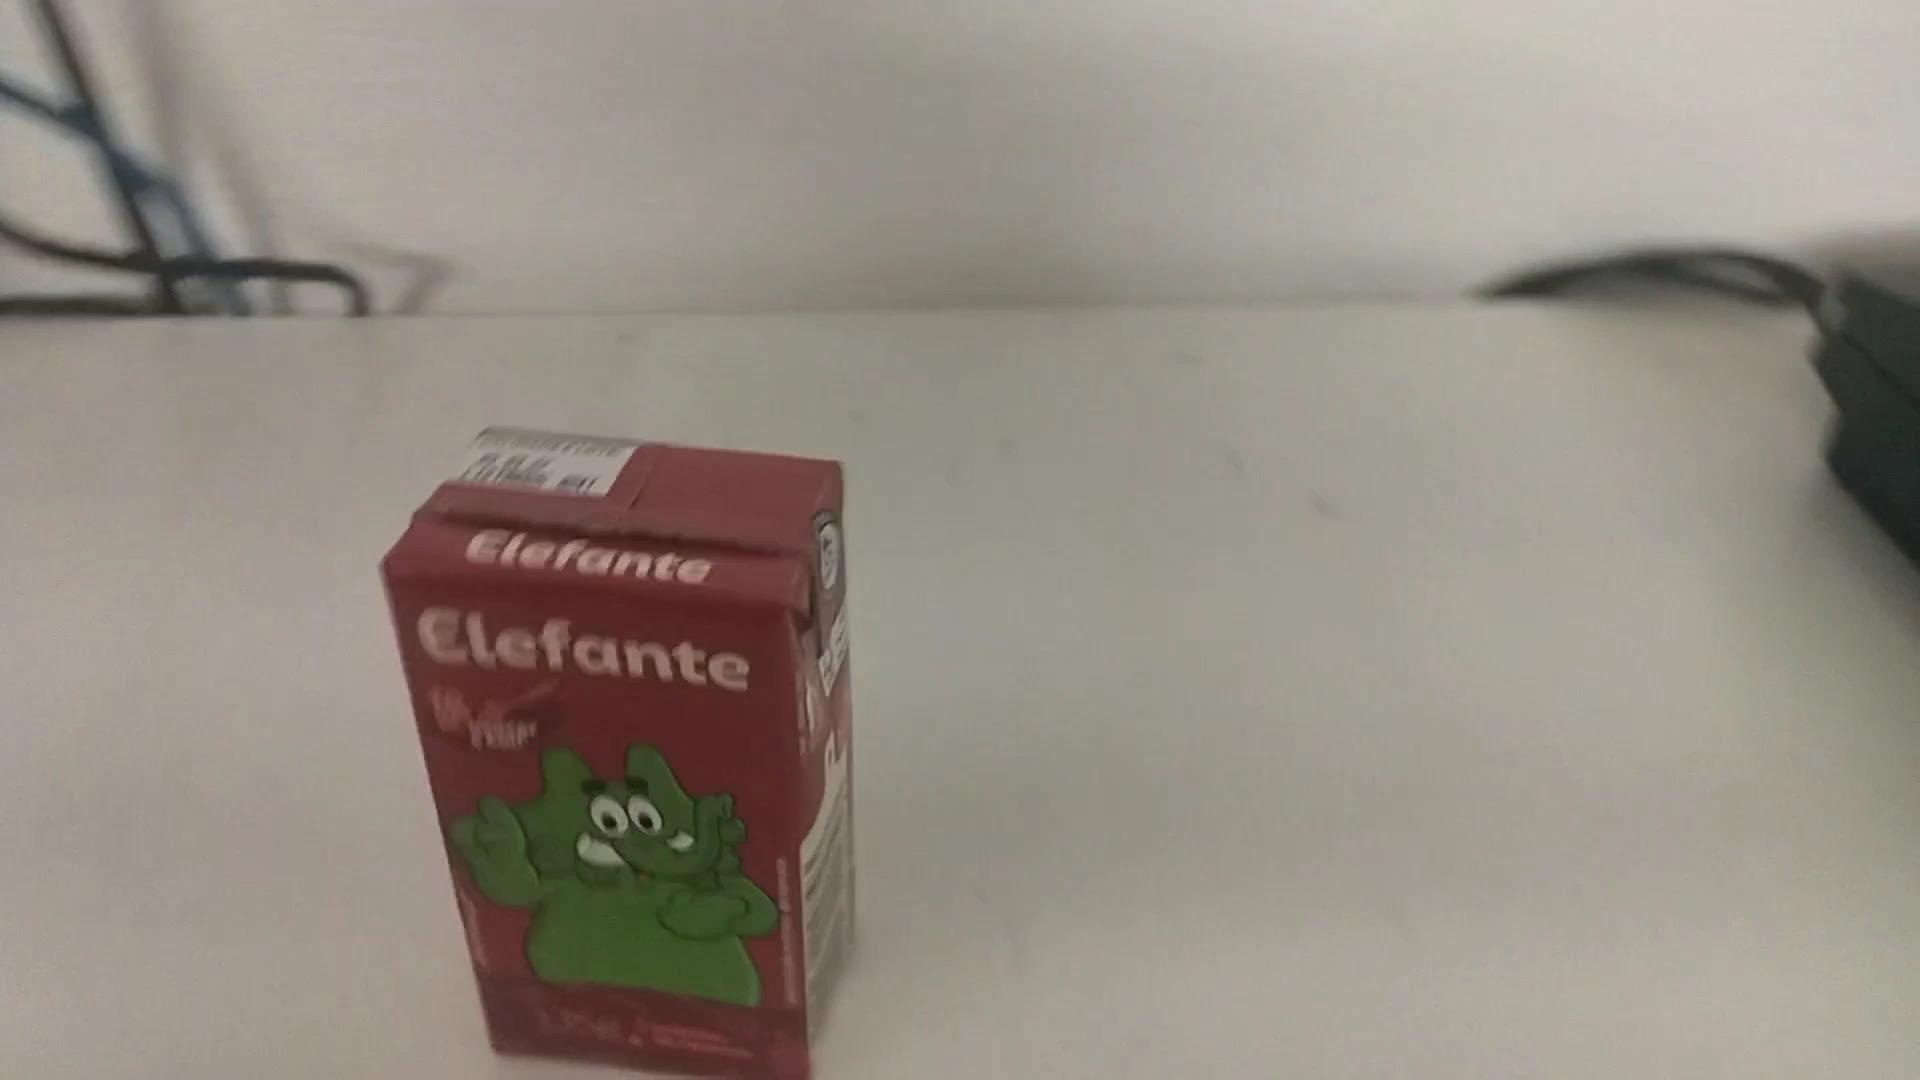tomate: (369, 411, 864, 1069)
